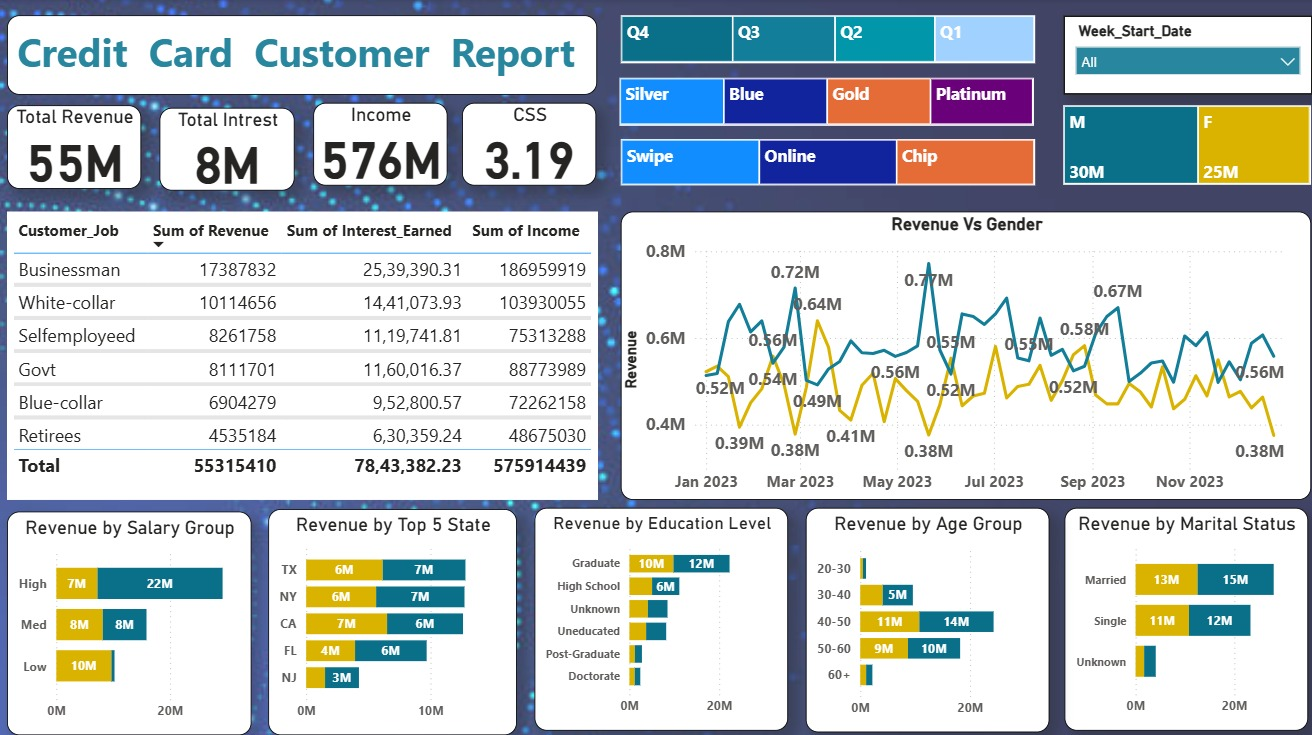

This screenshot's page, from the dashboard's own definition file:
{"tool":"powerbi","page":{"name":"CC Customer","canvas":[1280,720],"ordinal":2},"visuals":[{"type":"textbox","box":[9.8,16.3,569.3,76.4],"z":0},{"type":"tableEx","fields":{"Values":["public cust_details.Customer_Job","Sum(public cc_details.Revenue)","Sum(public cc_details.Interest_Earned)","Sum(public cust_details.Income)"]},"box":[10,205,570,278.3],"z":1000},{"type":"slicer","fields":{"Values":["public cc_details.Week_Start_Date"]},"box":[1029.6,16.3,240.7,76.4],"z":2000},{"type":"treemap","fields":{"Group":["public cc_details.Qtr"],"Values":["Avg(public cust_details.Client_Num)"]},"box":[601.8,16.3,400.1,46],"z":3000},{"type":"treemap","fields":{"Group":["public cc_details.Card_Category"],"Values":["Avg(public cust_details.Client_Num)"]},"box":[601,76,400,46],"z":4000},{"type":"card","title":"Total Revenue","fields":{"Values":["Sum(public cc_details.Revenue)"]},"box":[10.2,102.8,129.6,80.6],"z":5000},{"type":"card","title":"Income","fields":{"Values":["Sum(public cust_details.Income)"]},"box":[304.6,100,129.6,79.6],"z":6000},{"type":"card","title":"CSS","fields":{"Values":["Avg(public cust_details.Cust_Satisfaction_Score)"]},"box":[449.1,100,129.6,79.6],"z":7000},{"type":"card","title":"Total Intrest","fields":{"Values":["Sum(public cc_details.Interest_Earned)"]},"box":[156.5,104.6,130.6,79.6],"z":8000},{"type":"barChart","title":"Revenue by Salary Group","fields":{"Category":["public cust_details.IncomeGroup"],"Series":["public cust_details.Gender"],"Y":["Sum(public cc_details.Revenue)"]},"box":[9.8,494.6,235.7,216],"z":9000},{"type":"lineChart","title":"Revenue Vs Gender","fields":{"Category":["public cc_details.Week_Start_Date.Variation.Date Hierarchy.Year","public cc_details.Week_Start_Date.Variation.Date Hierarchy.Month","public cc_details.Week_Start_Date.Variation.Date Hierarchy.Day"],"Series":["public cust_details.Gender"],"Y":["Sum(public cc_details.Revenue)"]},"box":[601.7,205,666.7,278.3],"z":10000},{"type":"treemap","fields":{"Group":["public cust_details.Gender"],"Values":["Sum(public cc_details.Revenue)"]},"box":[1029.6,102.8,238.9,76.9],"z":11000},{"type":"barChart","title":"Revenue by Education Level","fields":{"Category":["public cust_details.Education_Level"],"Series":["public cust_details.Gender"],"Y":["Sum(public cc_details.Revenue)"]},"box":[518.3,491,245,215],"z":12000},{"type":"barChart","title":"Revenue by Top 5 State","fields":{"Category":["public cust_details.state_cd"],"Series":["public cust_details.Gender"],"Y":["Sum(public cc_details.Revenue)"]},"box":[261.7,491.7,240,218.3],"z":13000},{"type":"barChart","title":"Revenue by Marital Status","fields":{"Category":["public cust_details.Marital_Status"],"Series":["public cust_details.Gender"],"Y":["Sum(public cc_details.Revenue)"]},"box":[1030,491,235,215],"z":14000},{"type":"barChart","title":"Revenue by Age Group","fields":{"Category":["public cust_details.AgeGroup"],"Series":["public cust_details.Gender"],"Y":["Sum(public cc_details.Revenue)"]},"box":[780,491,235,216.7],"z":15000},{"type":"treemap","fields":{"Group":["public cc_details.Use Chip"],"Values":["Avg(public cust_details.Client_Num)"]},"box":[601.7,135,400,45],"z":16000}]}

Visuals, with their boxes in screenshot pixels (x1, y1, x2, y2), scaled from the page's 1280x720 canvas onto the 1312x735 screenshot:
textbox: bbox=(10, 17, 594, 95)
tableEx - public cust_details.Customer_Job x Sum(public cc_details.Revenue): bbox=(10, 209, 594, 493)
slicer - public cc_details.Week_Start_Date: bbox=(1055, 17, 1302, 95)
treemap - public cc_details.Qtr x Avg(public cust_details.Client_Num): bbox=(617, 17, 1027, 64)
treemap - public cc_details.Card_Category x Avg(public cust_details.Client_Num): bbox=(616, 78, 1026, 125)
"Total Revenue" card: bbox=(10, 105, 143, 187)
"Income" card: bbox=(312, 102, 445, 183)
"CSS" card: bbox=(460, 102, 593, 183)
"Total Intrest" card: bbox=(160, 107, 294, 188)
"Revenue by Salary Group" barChart: bbox=(10, 505, 252, 725)
"Revenue Vs Gender" lineChart: bbox=(617, 209, 1300, 493)
treemap - public cust_details.Gender x Sum(public cc_details.Revenue): bbox=(1055, 105, 1300, 183)
"Revenue by Education Level" barChart: bbox=(531, 501, 782, 721)
"Revenue by Top 5 State" barChart: bbox=(268, 502, 514, 725)
"Revenue by Marital Status" barChart: bbox=(1056, 501, 1297, 721)
"Revenue by Age Group" barChart: bbox=(799, 501, 1040, 722)
treemap - public cc_details.Use Chip x Avg(public cust_details.Client_Num): bbox=(617, 138, 1027, 184)
